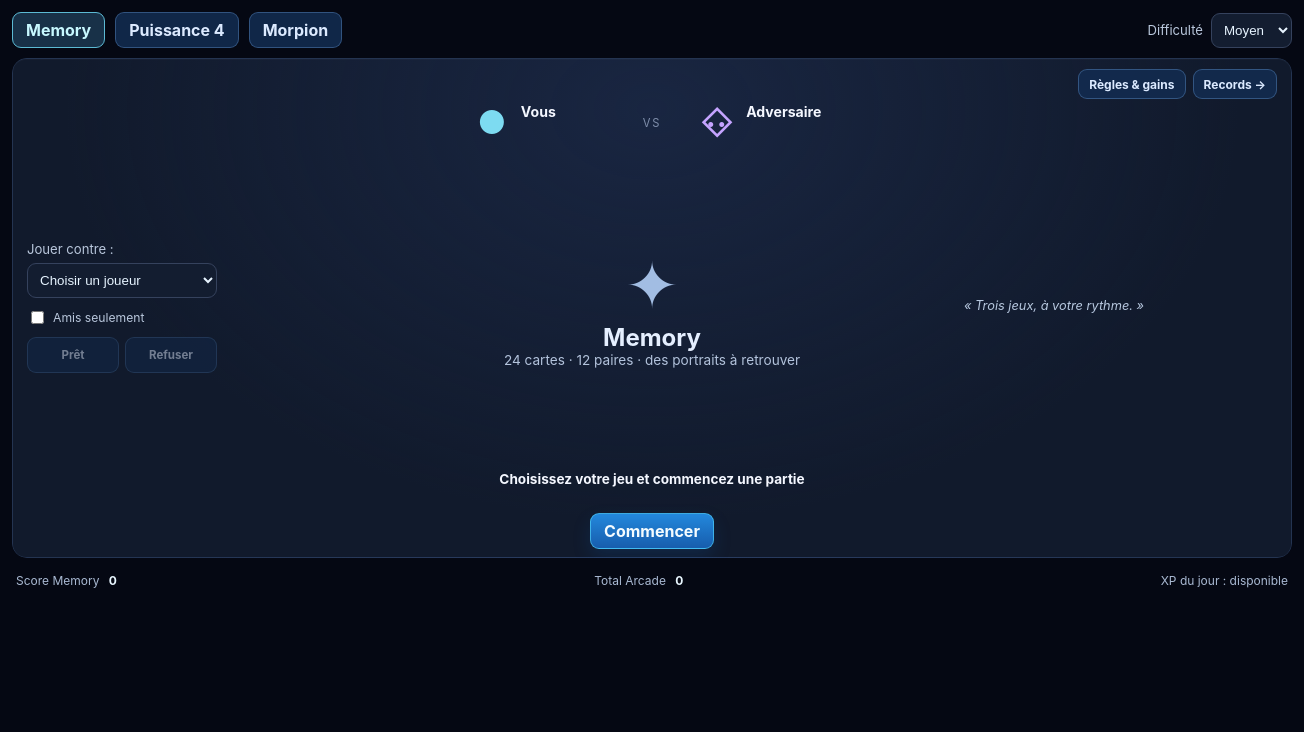
Scenario: Arcade interface and session lifecycle › starts only on explicit action, defaults to Medium and uses one shared shell
The image size is (1304, 732).
What coordinates should you click on to do the following:
click the button "Commencer"
I would click on:
 (652, 531)
Its box is [590,513,714,549].
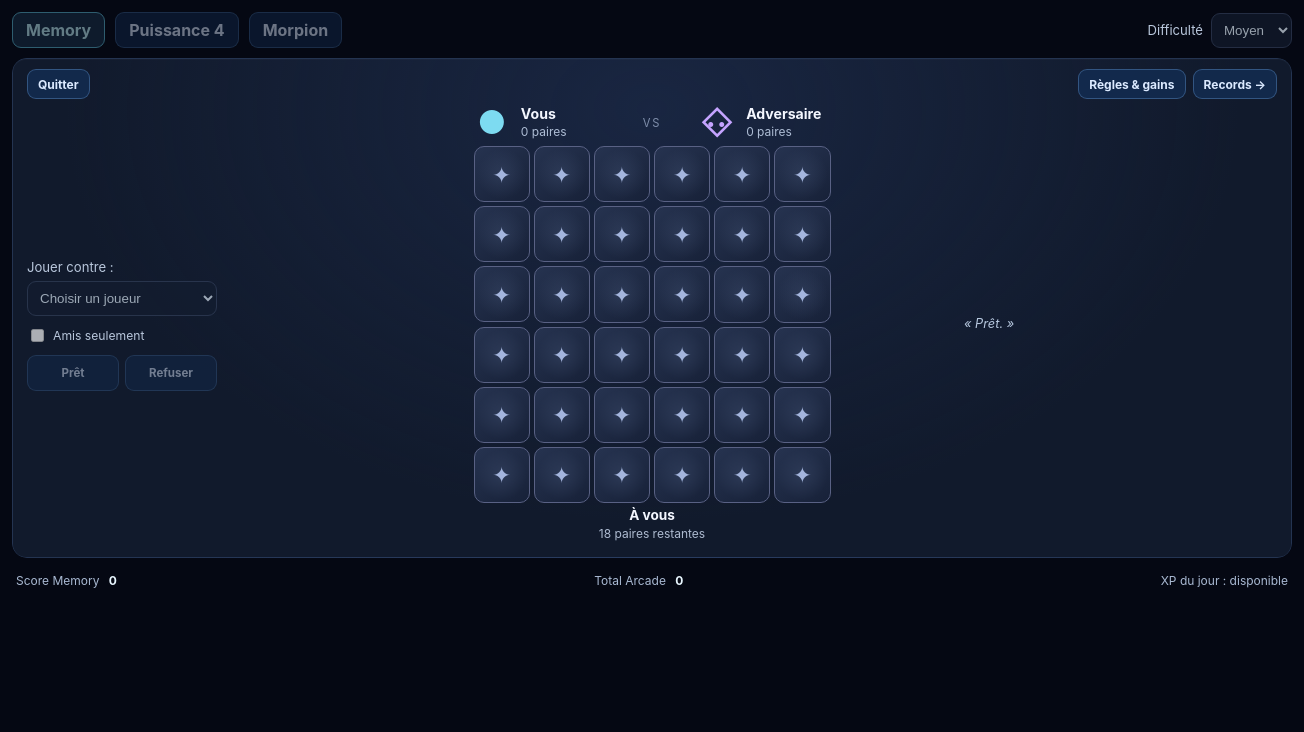
Expected: the number of buttons with class "arcade-memory-card" is 36
Expected: the dropdown labelled "Difficulté" is disabled, [1211,12,1292,48]
